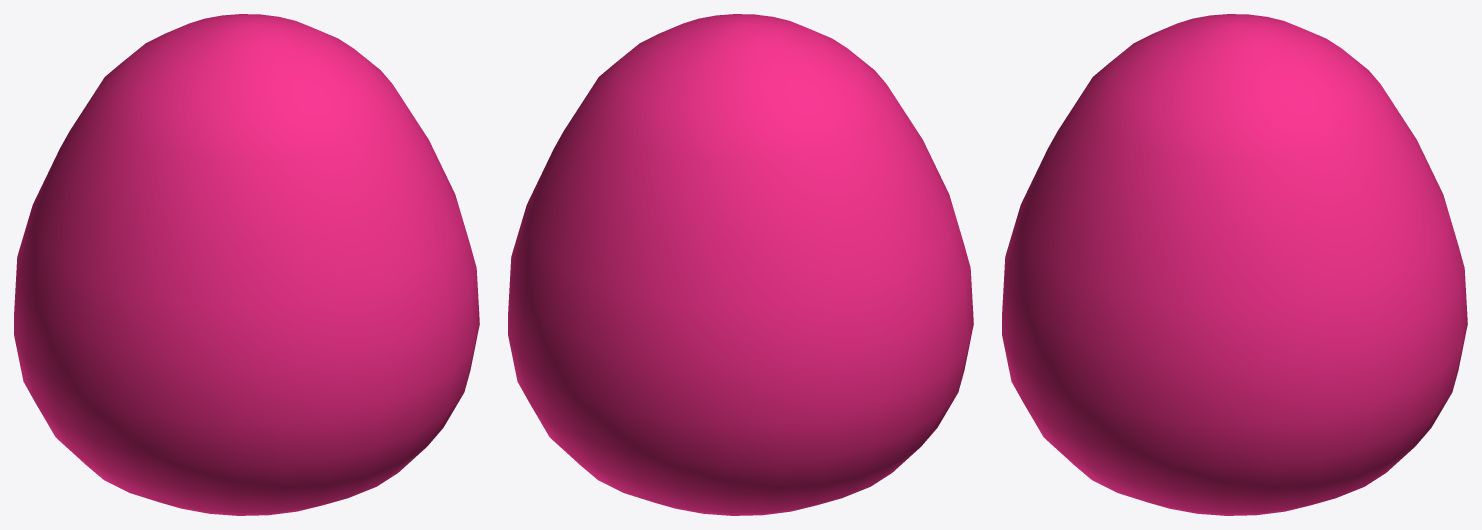
The model's file is egg2.FBX.
3 views of the same model, side by side, from view 1: azimuth 30°, elevation 25°; view 2: azimuth 150°, elevation 25°; view 3: azimuth 270°, elevation 25° (orthographic).
Parts seen in each view (by area): view 1: Egg; view 2: Egg; view 3: Egg.
Boxes of the visible parts, bbox=[...] form: Egg: bbox=[14, 14, 479, 515]; Egg: bbox=[508, 14, 973, 515]; Egg: bbox=[1002, 14, 1467, 515].
Bounding box in the file's own units: 45.88 × 50.34 × 45.8.
